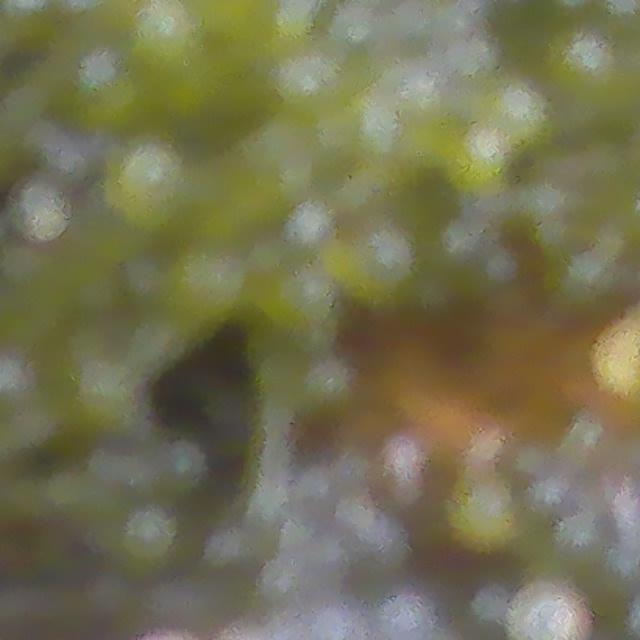SeaGrape: (100, 137, 201, 238), (125, 0, 205, 78), (484, 78, 555, 152), (512, 585, 583, 640), (13, 181, 68, 241), (381, 591, 432, 640)
